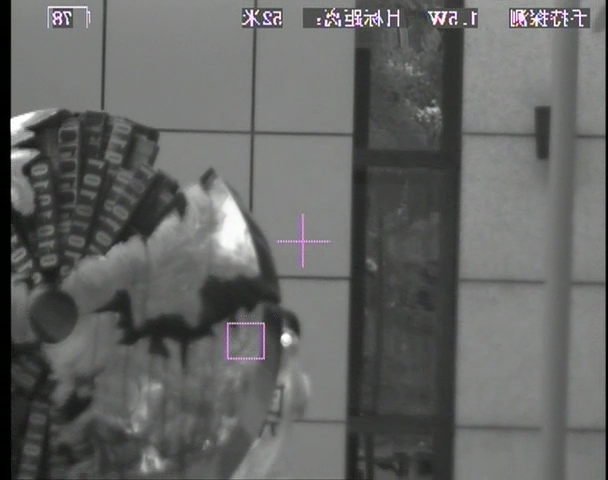my: (279, 331, 293, 347)
